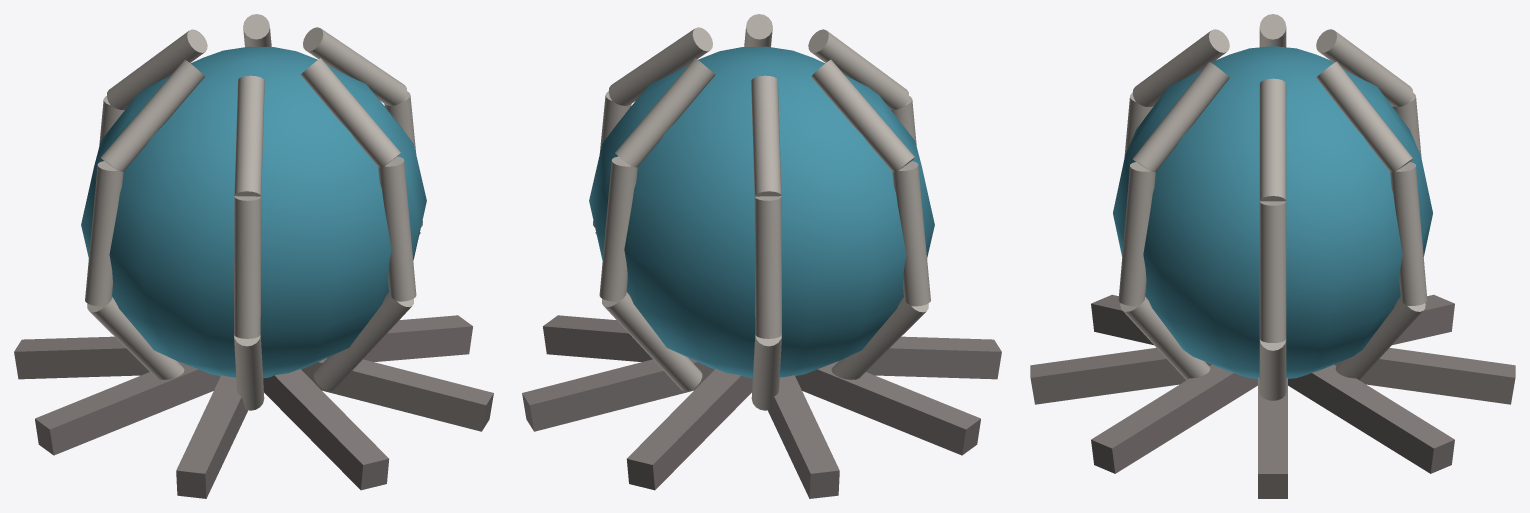
Rendered from CMU3DHiveCMU14PathogenPlasmaTree.glb.
The picture shows the model from 3 angles, left to right: view 1: azimuth 30°, elevation 25°; view 2: azimuth 150°, elevation 25°; view 3: azimuth 270°, elevation 25°; orthographic projection.
Visible parts, largest first — view 1: central nutrient pod, curved pod cage rib (×13), anchoring root (×6); view 2: central nutrient pod, curved pod cage rib (×13), anchoring root (×6); view 3: central nutrient pod, curved pod cage rib (×14), anchoring root (×7).
Part boxes in pixels (bbox=[...]): central nutrient pod: bbox=[81, 46, 426, 378]; curved pod cage rib (×13): bbox=[85, 14, 422, 410]; anchoring root (×6): bbox=[14, 315, 493, 498]; central nutrient pod: bbox=[589, 46, 934, 378]; curved pod cage rib (×13): bbox=[593, 14, 930, 410]; anchoring root (×6): bbox=[522, 315, 1001, 498]; central nutrient pod: bbox=[1113, 46, 1432, 378]; curved pod cage rib (×14): bbox=[1118, 14, 1427, 400]; anchoring root (×7): bbox=[1030, 294, 1515, 498].
Bounding box in the file's own units: 0.9085 × 0.7277 × 0.9085.
